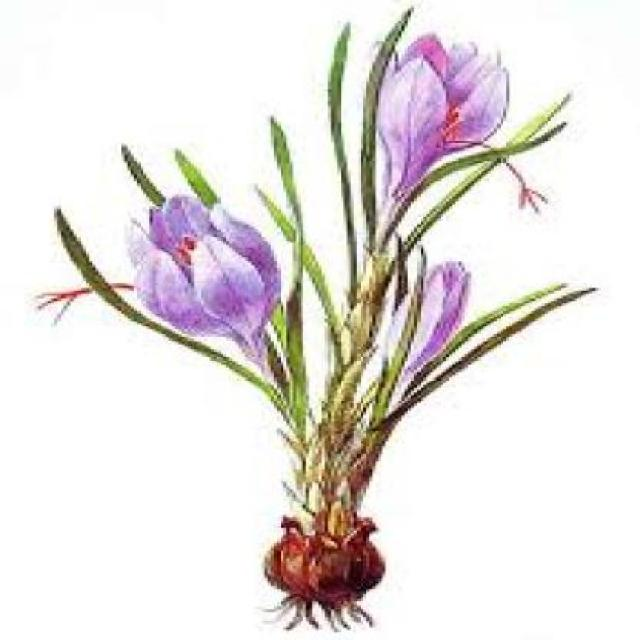saffron closed: (396, 261, 470, 394)
saffron open: (130, 196, 280, 366), (378, 35, 509, 218)
